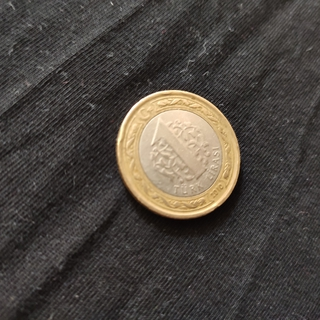1TL: (113, 88, 242, 223)
